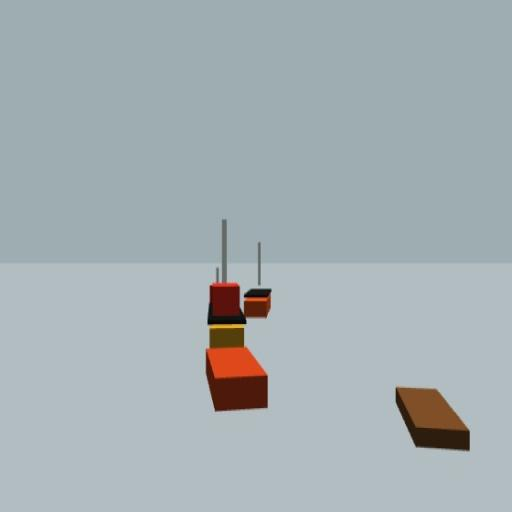debris_container: (396, 386, 469, 453), (205, 347, 268, 412)
vessel: (206, 215, 246, 348), (243, 238, 272, 320)
